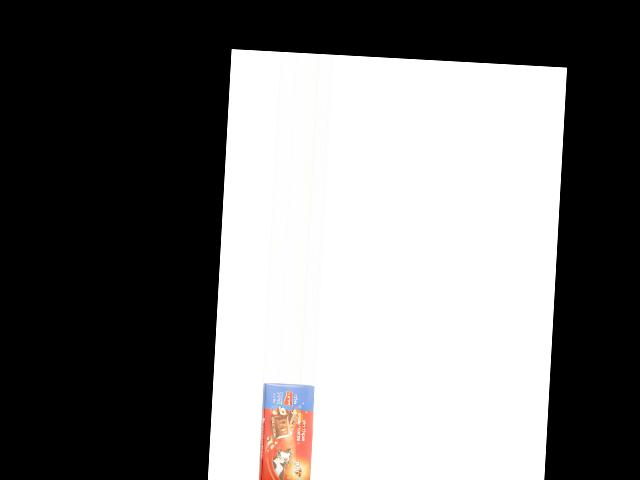chocolate: (258, 382, 314, 480)
